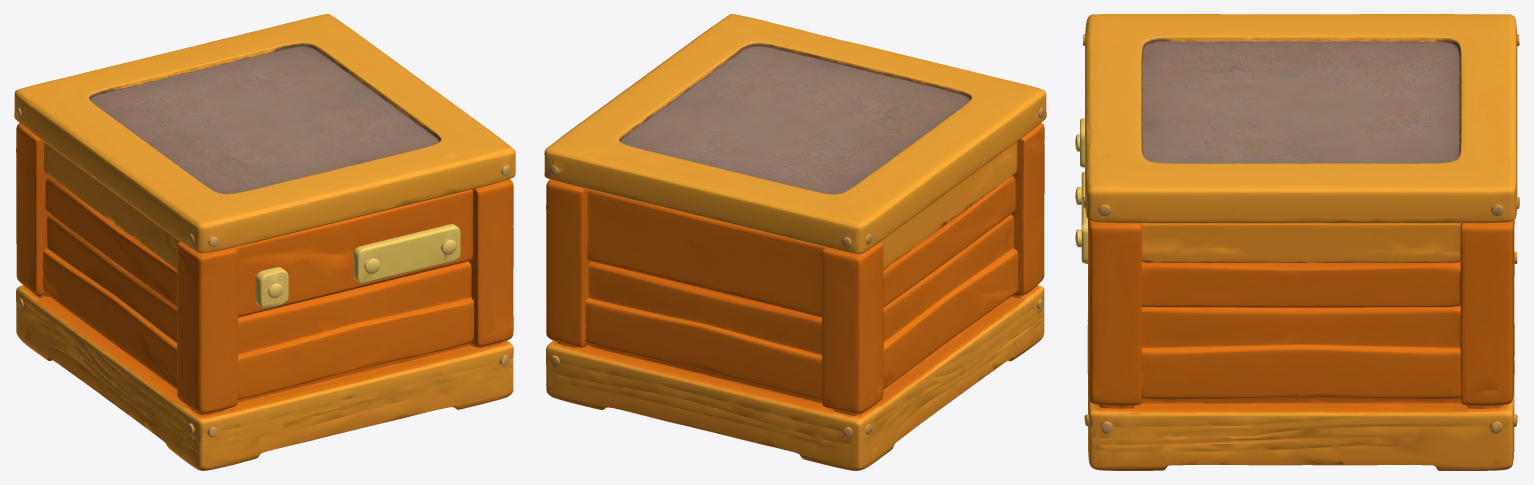
File: crate.glb
The picture shows the model from 3 angles, left to right: view 1: azimuth 30°, elevation 25°; view 2: azimuth 150°, elevation 25°; view 3: azimuth 270°, elevation 25°; orthographic projection. The views are drawn at different scales.
Visible parts, largest first — view 1: tripo_node_af1b977f-9f24-4901-af7f-9ad478cf84cb; view 2: tripo_node_af1b977f-9f24-4901-af7f-9ad478cf84cb; view 3: tripo_node_af1b977f-9f24-4901-af7f-9ad478cf84cb.
Boxes of the visible parts, bbox=[...] form: tripo_node_af1b977f-9f24-4901-af7f-9ad478cf84cb: bbox=[14, 14, 515, 470]; tripo_node_af1b977f-9f24-4901-af7f-9ad478cf84cb: bbox=[544, 14, 1046, 470]; tripo_node_af1b977f-9f24-4901-af7f-9ad478cf84cb: bbox=[1075, 14, 1519, 470].
Bounding box in the file's own units: 0.8104 × 0.6 × 0.8476.
1 material, 1 textured.
